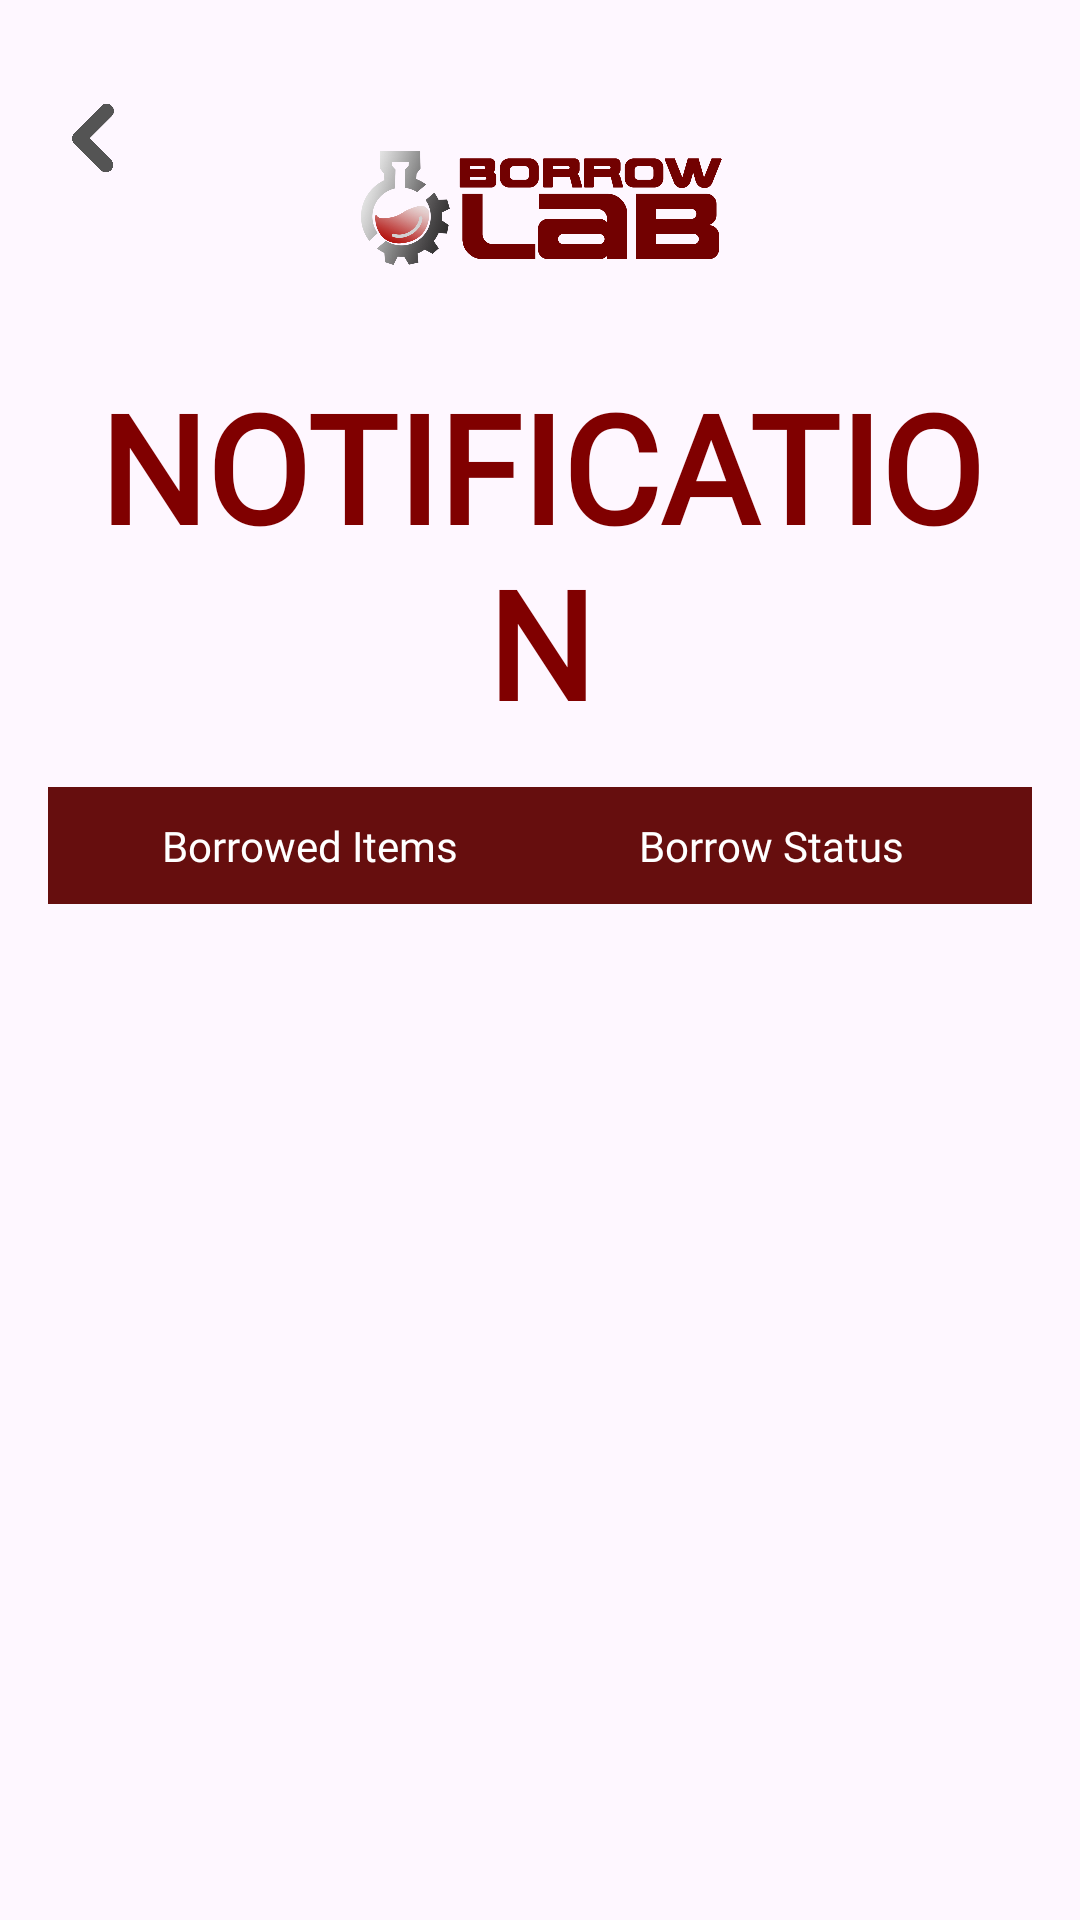

Where to tap for icons on this 1080 x 1920 app screen, as (x=x, y=y):
Back Button: (x=93, y=138)
